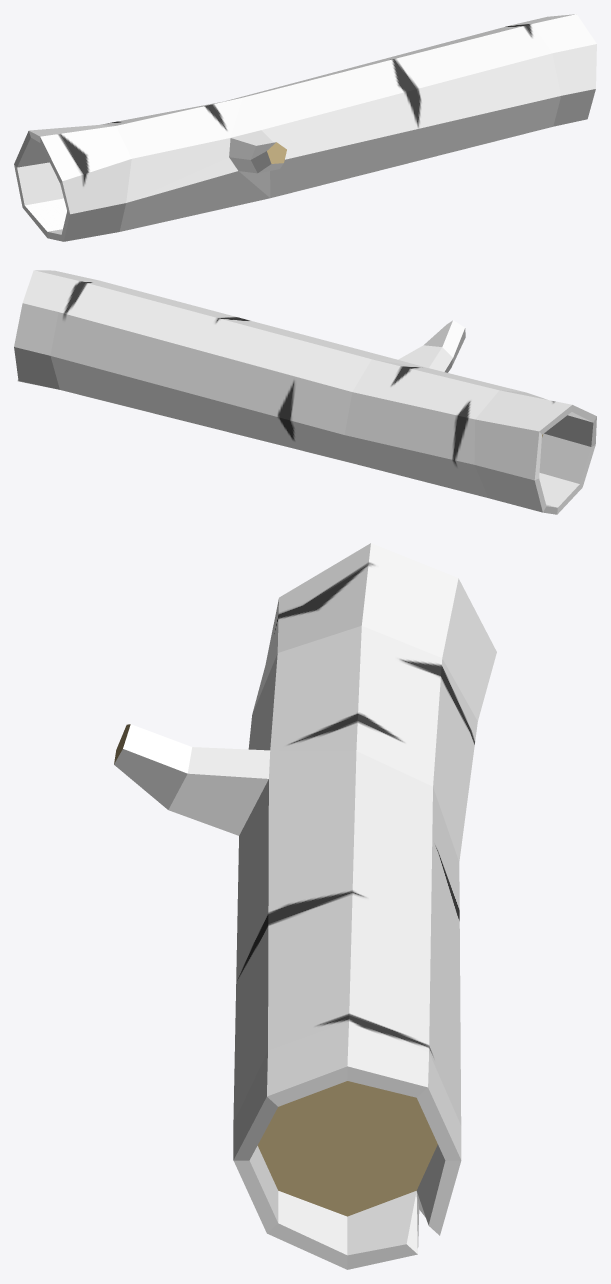
The model's file is Birch_Log_08.fbx.
3 renders of one model, top to bottom at view 1: azimuth 30°, elevation 25°; view 2: azimuth 150°, elevation 25°; view 3: azimuth 270°, elevation 25°, orthographic. The views are drawn at different scales.
Visible parts, largest first — view 1: Birch_Log_08; view 2: Birch_Log_08; view 3: Birch_Log_08.
Part boxes in pixels (<box>): Birch_Log_08: <box>14,14,596,241</box>; Birch_Log_08: <box>14,270,596,514</box>; Birch_Log_08: <box>114,543,496,1269</box>.
Size of the model in its own units: 171 by 33.5 by 53.37.
